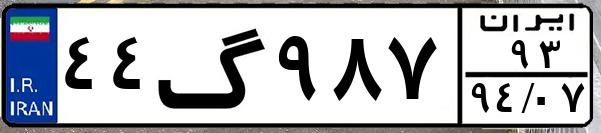0: (535, 70, 560, 125)
3: (537, 27, 568, 80)
4: (57, 26, 110, 100), (110, 28, 156, 98), (495, 70, 520, 125)
7: (385, 28, 445, 110), (560, 70, 590, 125)
8: (330, 28, 385, 110)
9: (270, 28, 330, 110), (508, 27, 537, 80), (470, 70, 495, 125)
گ: (156, 12, 270, 120)
